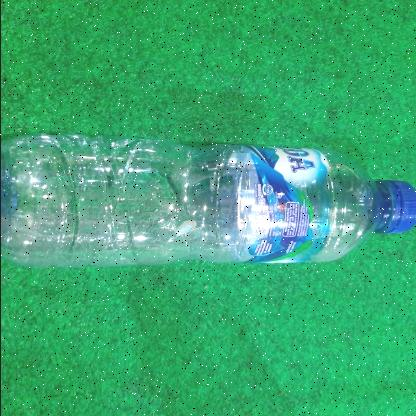Plastic Bottle: (0, 132, 416, 263)
